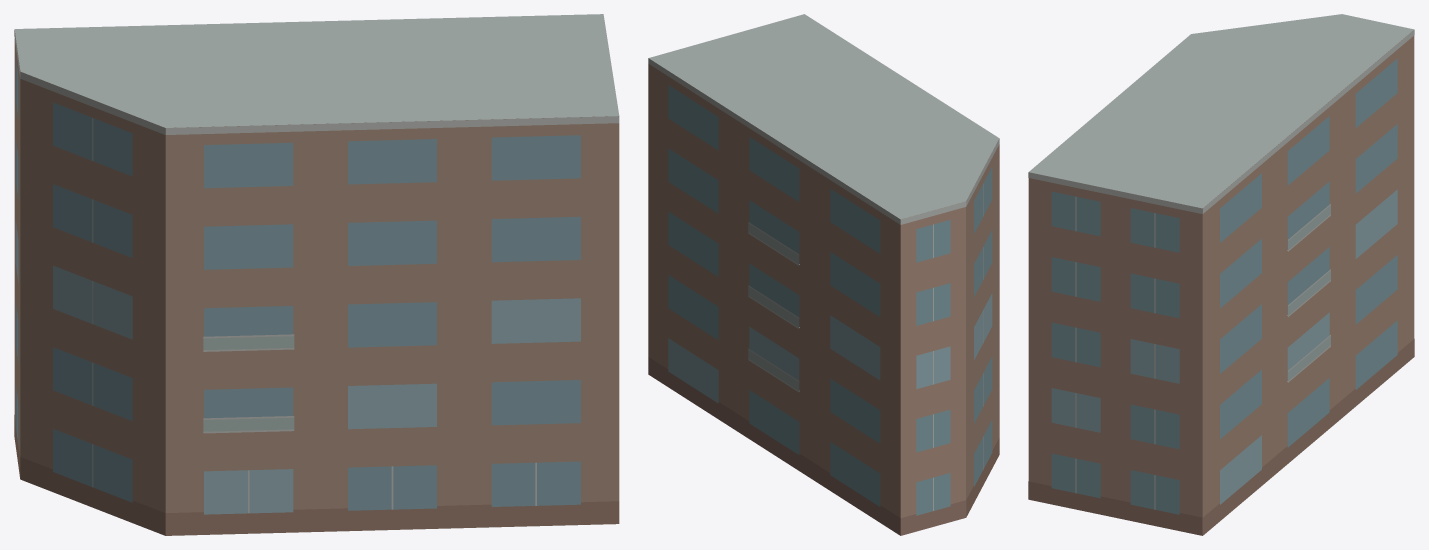
Rendered from survey-upis-32711002.glb.
3 views of the same model, side by side, from view 1: azimuth 30°, elevation 25°; view 2: azimuth 150°, elevation 25°; view 3: azimuth 270°, elevation 25° (orthographic). The views are drawn at different scales.
Visible parts, largest first — view 1: survey-upis-32711002.tmp; view 2: survey-upis-32711002.tmp; view 3: survey-upis-32711002.tmp.
Part boxes in pixels (x1,y1,x2,y2): survey-upis-32711002.tmp: (14, 14, 619, 535); survey-upis-32711002.tmp: (648, 14, 999, 535); survey-upis-32711002.tmp: (1028, 14, 1414, 535).
Size of the model in its own units: 17.84 by 14 by 14.97.
